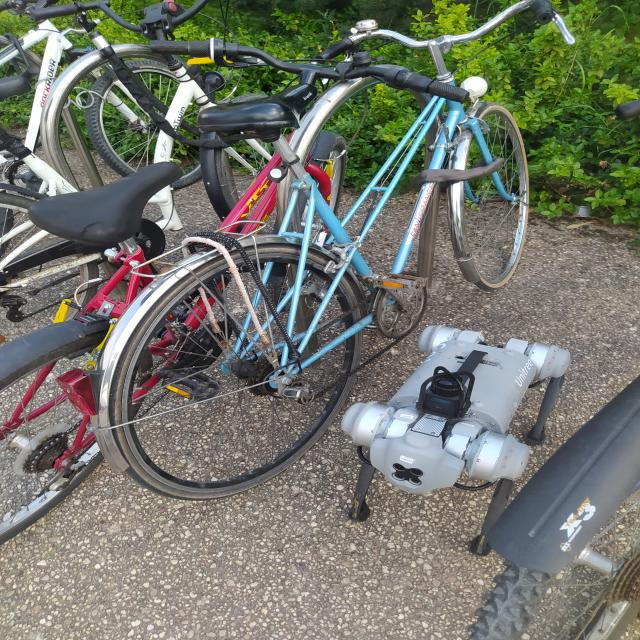unitree-go1-robot: (329, 321, 585, 577)
